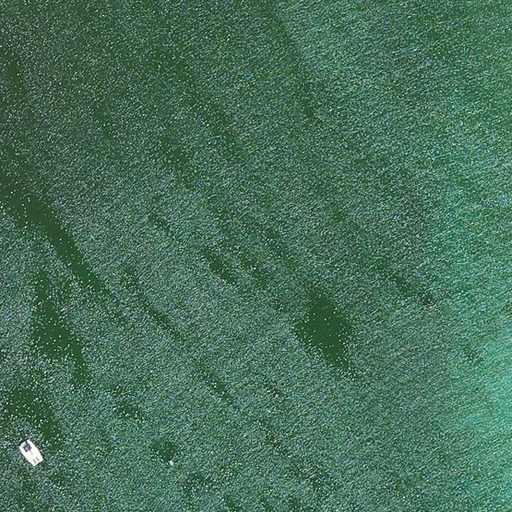ship: (18, 437, 46, 469)
